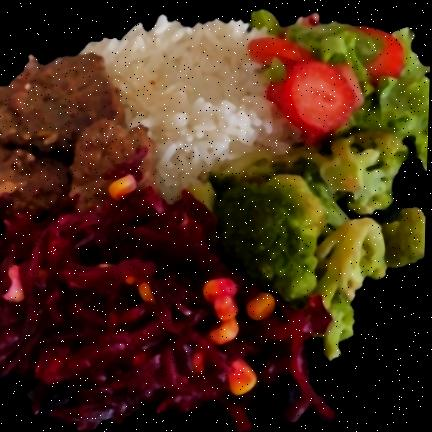beet: (0, 200, 340, 429)
broccoli: (184, 134, 425, 369)
meat: (0, 50, 147, 213)
rice: (93, 17, 304, 201)
salad: (249, 13, 430, 178)
